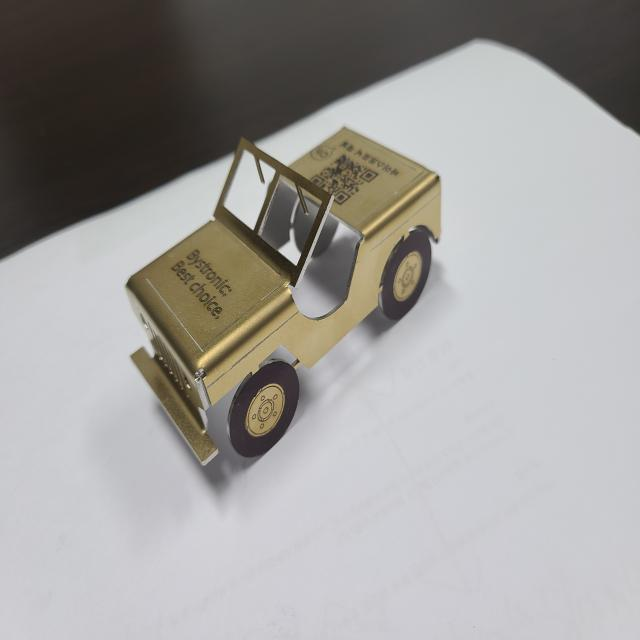tire: (228, 361, 299, 456), (382, 231, 431, 319)
